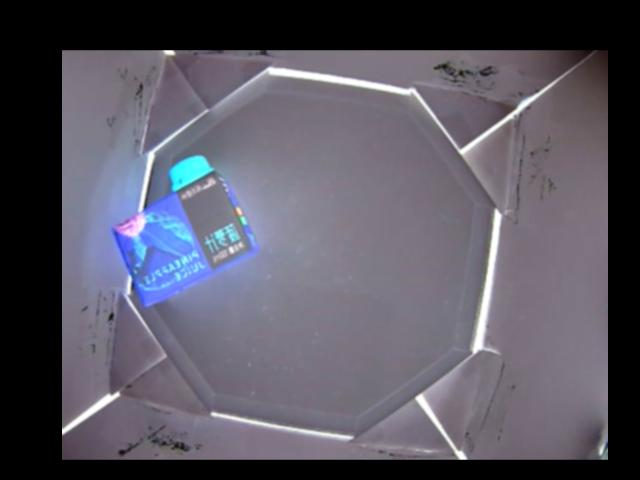Bottle: (108, 156, 255, 307)
